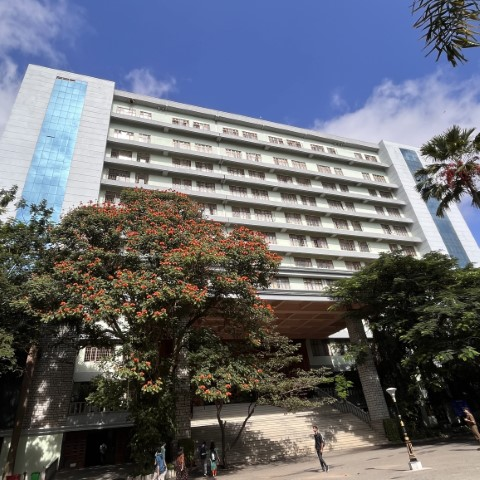Central Block: (6, 53, 480, 480)
